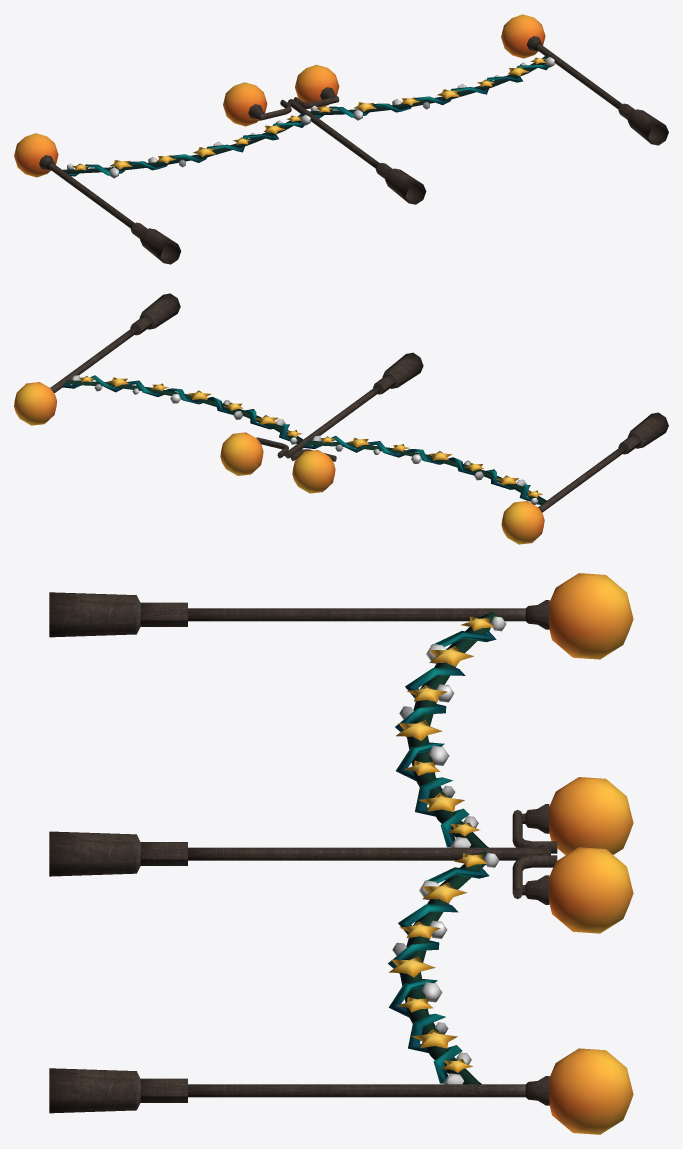
The model's file is StreetLight_Garland_B.fbx.
3 renders of one model, top to bottom at view 1: azimuth 30°, elevation 25°; view 2: azimuth 150°, elevation 25°; view 3: azimuth 270°, elevation 25°, orthographic. The views are drawn at different scales.
Parts seen in each view (by area): view 1: StreetLight_Garland_B; view 2: StreetLight_Garland_B; view 3: StreetLight_Garland_B.
Part boxes in pixels (x1,y1,x2,y2): StreetLight_Garland_B: [14, 14, 668, 264]; StreetLight_Garland_B: [14, 293, 668, 544]; StreetLight_Garland_B: [49, 573, 633, 1134].
Size of the model in its own units: 1.57 by 0.1154 by 0.7555.
